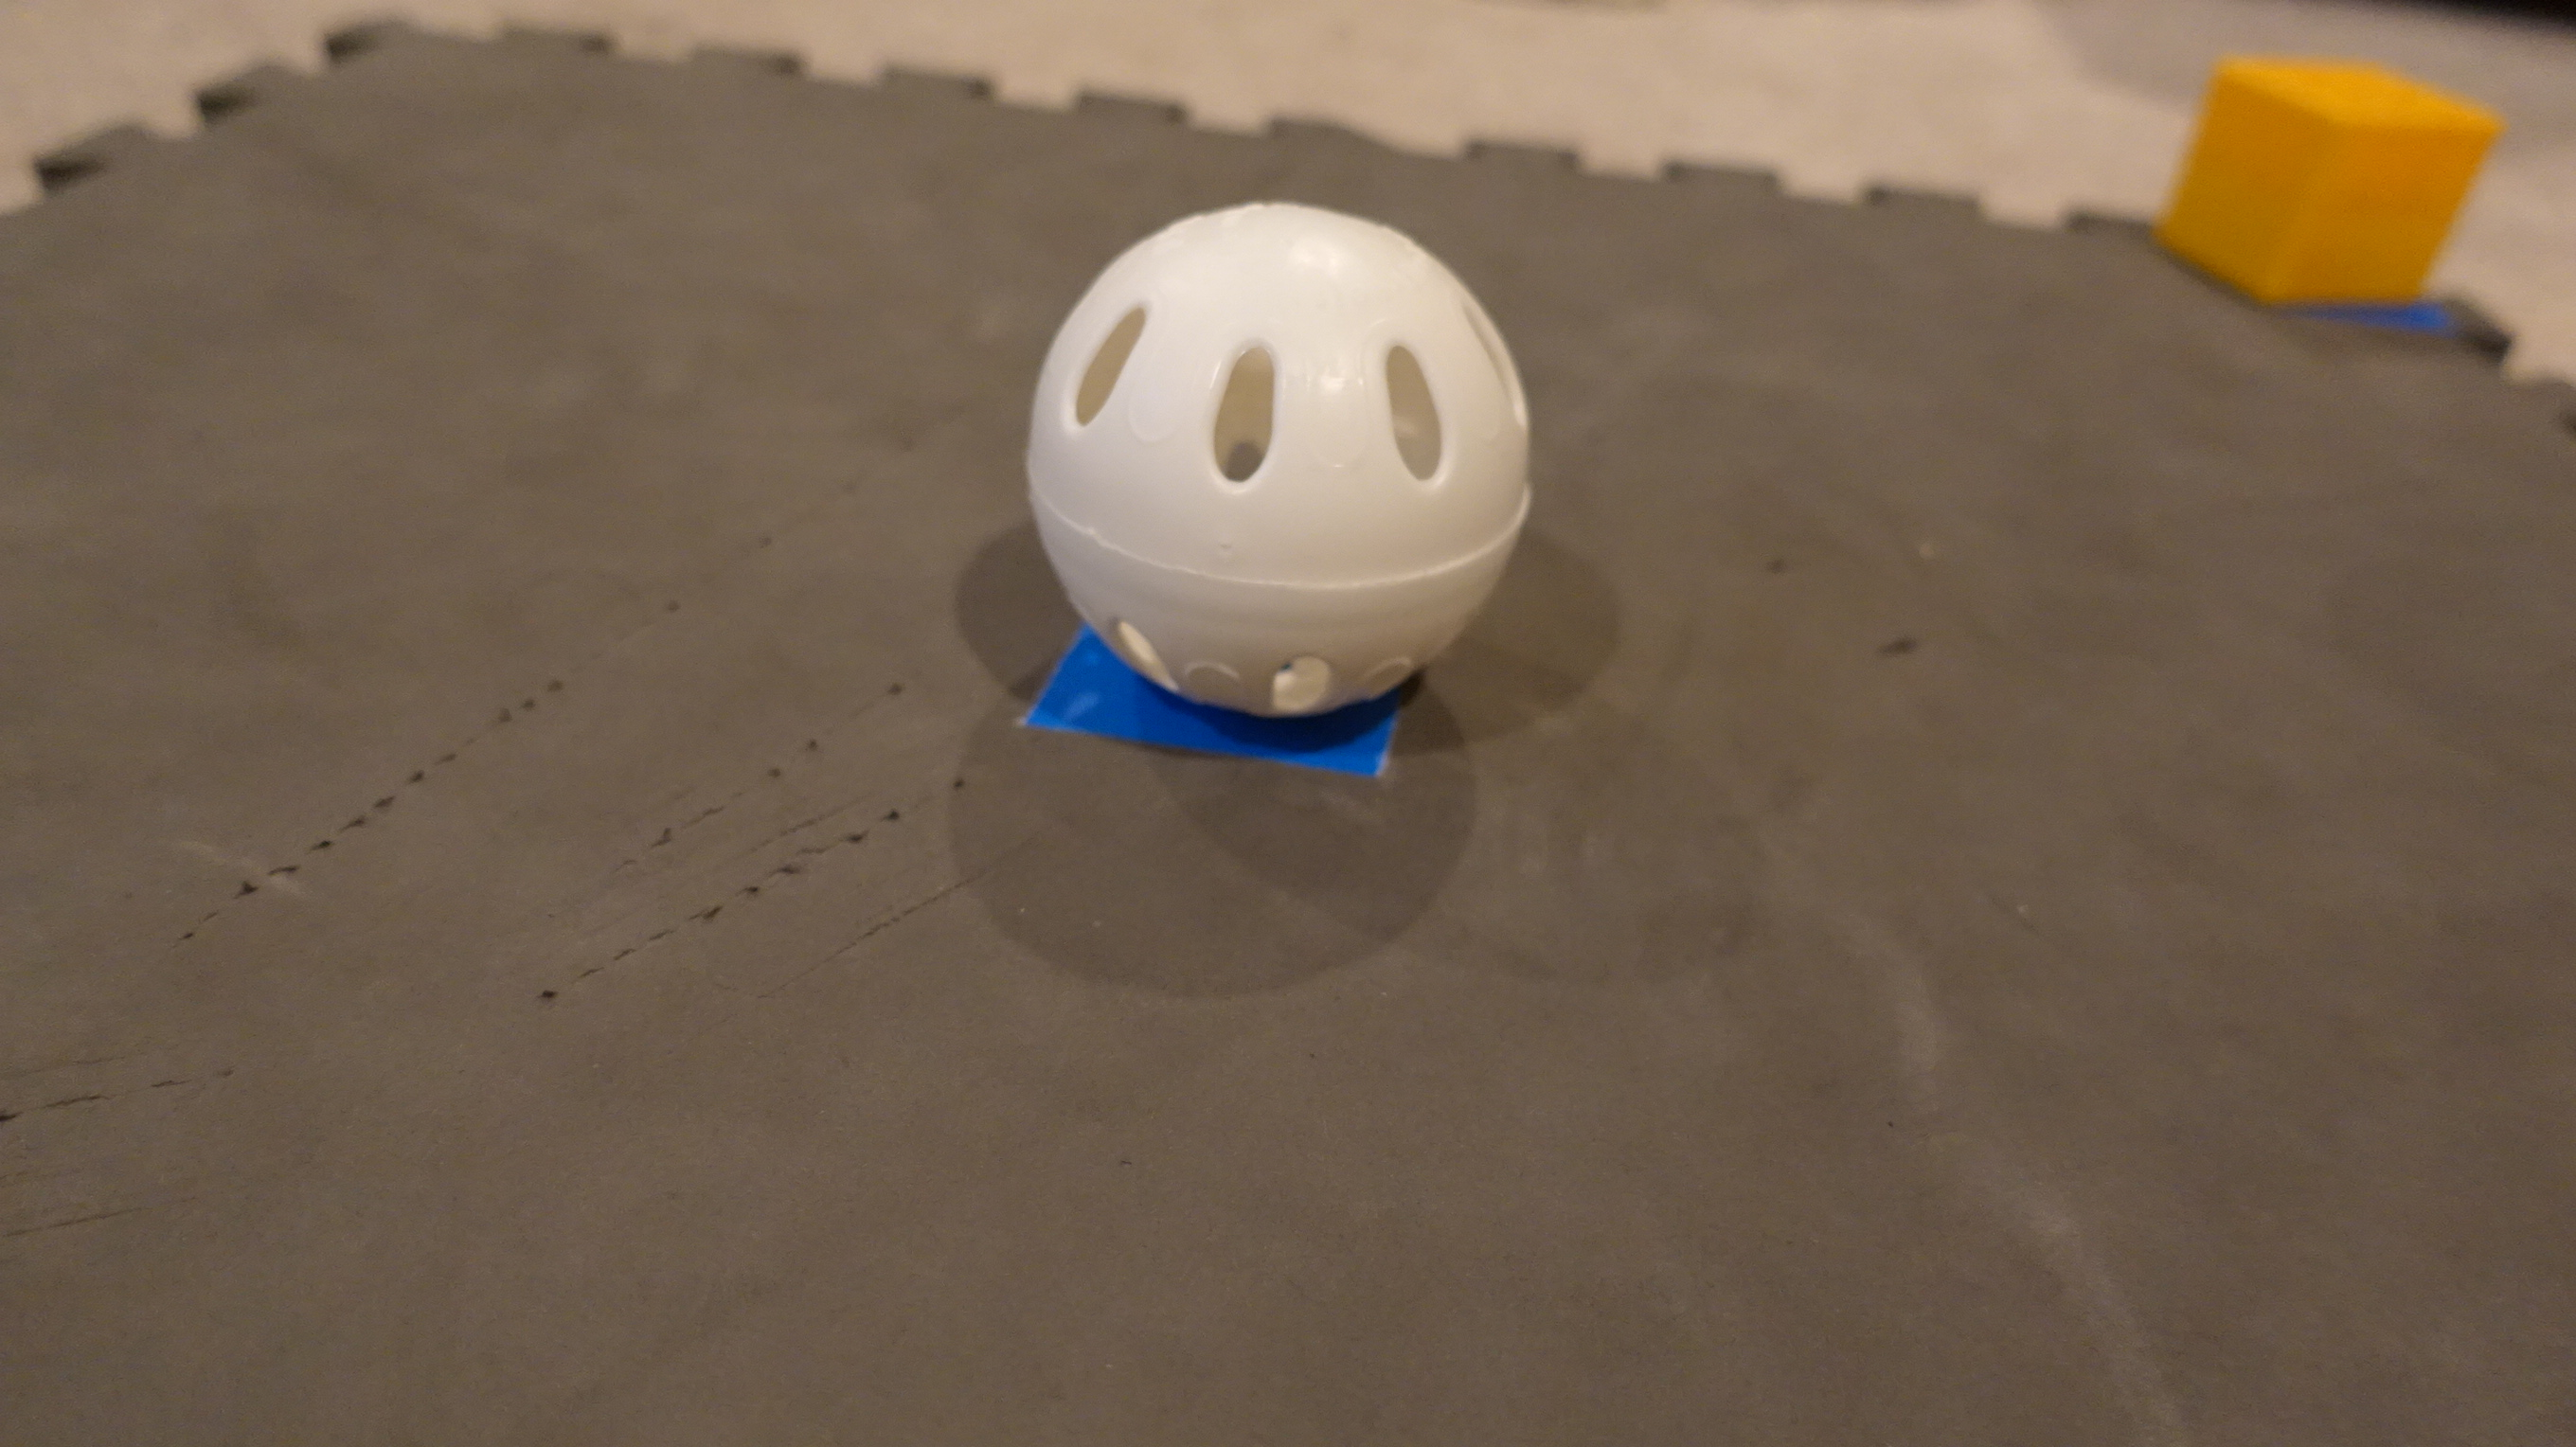gold: (2144, 44, 2512, 320)
silver: (1017, 195, 1541, 720)
